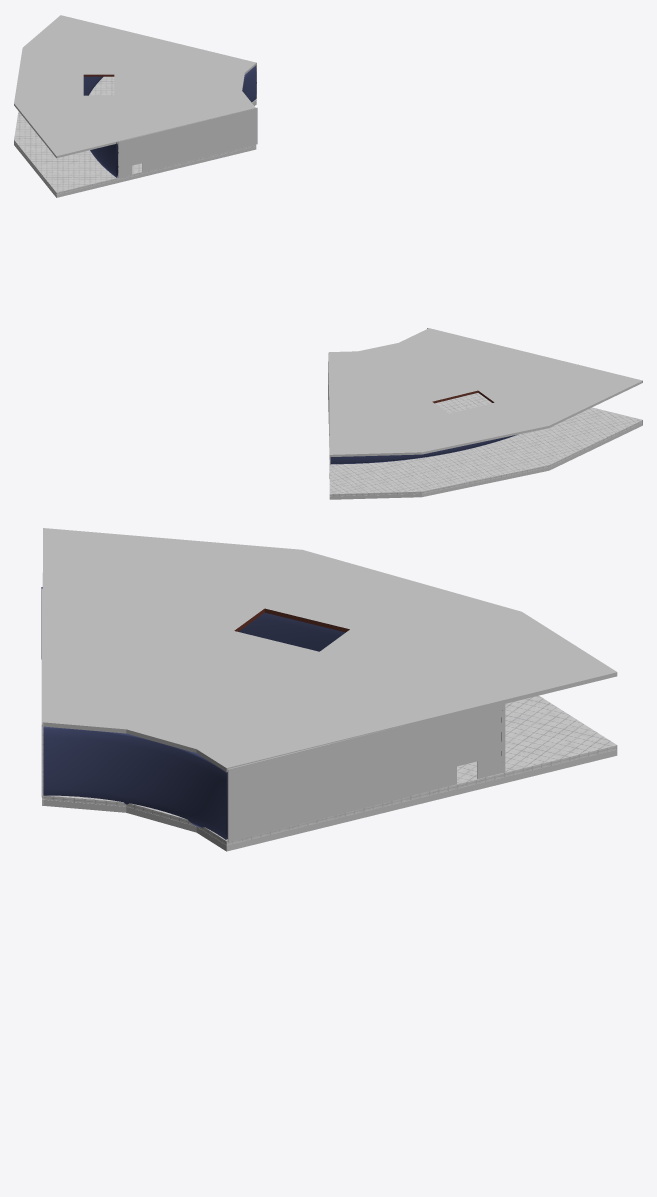
File: con_room.fbx
The picture shows the model from 3 angles, top to bottom: view 1: azimuth 30°, elevation 25°; view 2: azimuth 150°, elevation 25°; view 3: azimuth 270°, elevation 25°; orthographic projection. The views are drawn at different scales.
Visible parts, largest first — view 1: OpenCeiling__1_, New_Game_Object__2_, OpenFloor__2_, OpenFloor__3_, BackWall__1_, FrontWall__1_; view 2: OpenCeiling__1_, OpenFloor__2_, OpenFloor__3_, BackWall__1_; view 3: OpenCeiling__1_, New_Game_Object__3_, FrontWall__1_, OpenFloor__2_, OpenFloor__3_, BackWall__1_.
Part boxes in pixels (box(x1,y1,x2,y2)): OpenCeiling__1_: box(14, 15, 256, 158); New_Game_Object__2_: box(118, 107, 257, 177); OpenFloor__2_: box(14, 76, 256, 194); OpenFloor__3_: box(14, 101, 256, 197); BackWall__1_: box(83, 76, 118, 177); FrontWall__1_: box(242, 65, 256, 102); OpenCeiling__1_: box(329, 328, 642, 456); OpenFloor__2_: box(329, 393, 642, 496); OpenFloor__3_: box(329, 422, 642, 499); BackWall__1_: box(330, 434, 517, 464); OpenCeiling__1_: box(42, 528, 617, 772); New_Game_Object__3_: box(227, 704, 505, 841); FrontWall__1_: box(43, 726, 227, 839); OpenFloor__2_: box(42, 695, 617, 845); OpenFloor__3_: box(42, 749, 617, 851); BackWall__1_: box(41, 587, 502, 755).
Size of the model in its own units: 14691 by 1001 by 6279.
